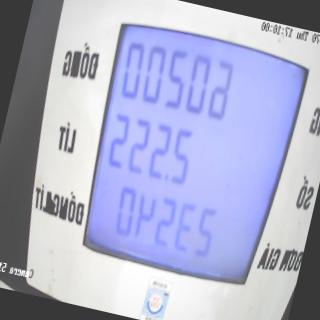screen: (62, 0, 318, 300)
